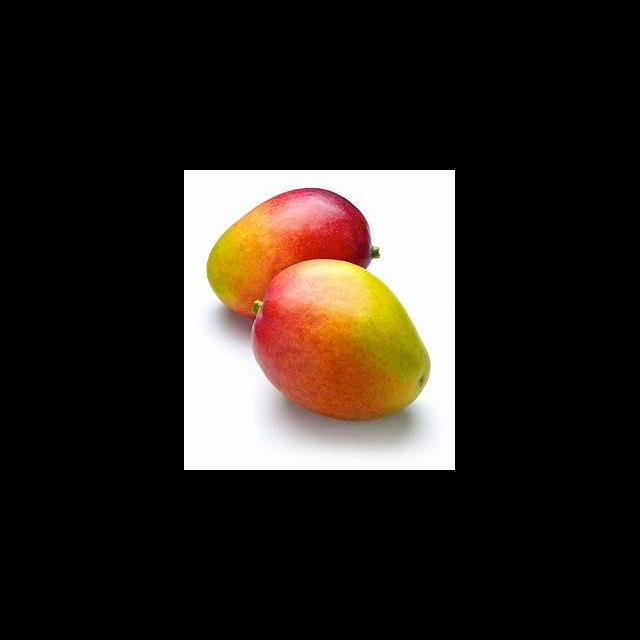mango: (252, 259, 430, 419), (208, 189, 371, 317)
